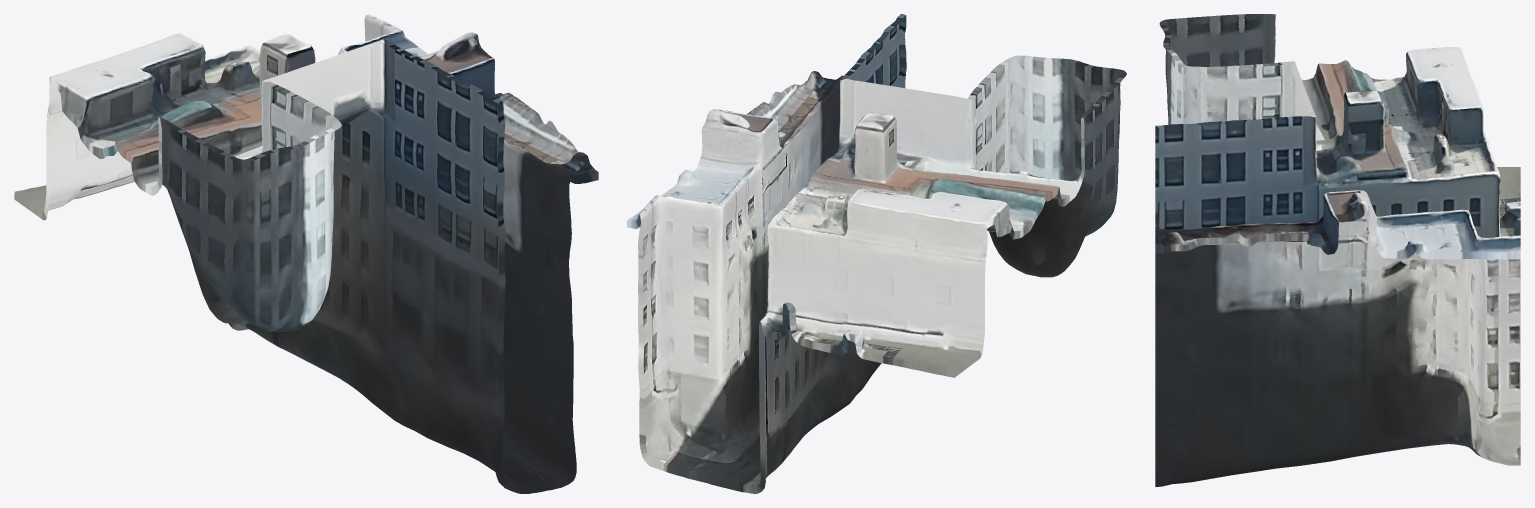
Rendered from z20-167755-405244-h0-yup-uvflip-v3-world.glb.
3 views of the same model, side by side, from view 1: azimuth 30°, elevation 25°; view 2: azimuth 150°, elevation 25°; view 3: azimuth 270°, elevation 25° (orthographic). The views are drawn at different scales.
Bounding box in the file's own units: 30.2 × 31.16 × 30.32.
1 material, 1 textured.
